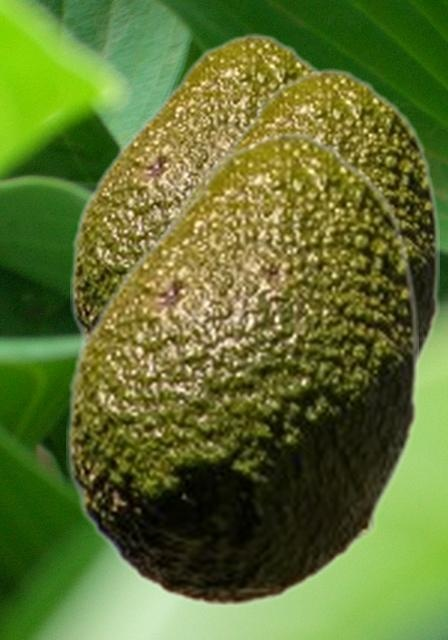avocado: (66, 131, 417, 608), (148, 68, 438, 374), (70, 33, 323, 347)
